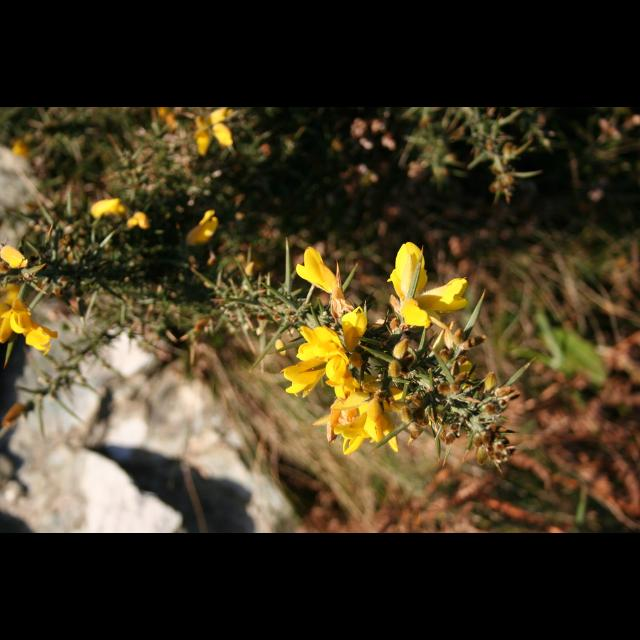Flower: (388, 230, 479, 342), (311, 382, 415, 448), (294, 248, 336, 298), (194, 107, 236, 153), (299, 329, 349, 363), (282, 364, 324, 401), (324, 354, 356, 400), (0, 308, 34, 344), (190, 208, 218, 244), (23, 326, 55, 354), (90, 200, 124, 222), (0, 284, 18, 324), (0, 245, 26, 269), (124, 212, 148, 232)
